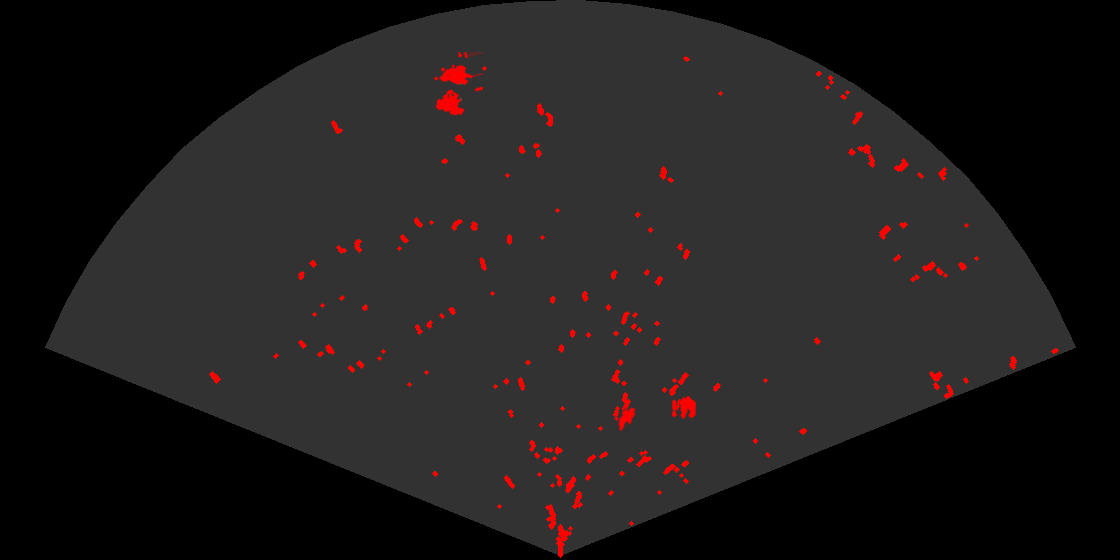AUV: (614, 405, 637, 433)
ball: (670, 395, 697, 421)
cage: (432, 52, 483, 117)
